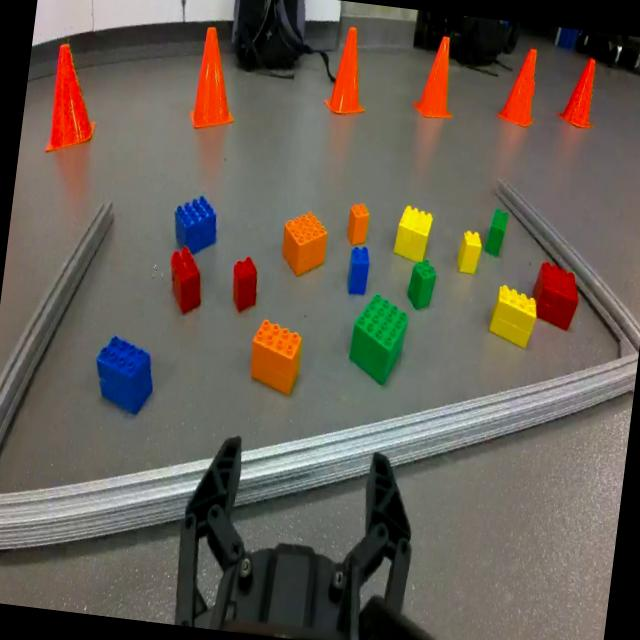block: (487, 287, 539, 352), (394, 205, 434, 263), (457, 228, 482, 276)
blue: (91, 334, 158, 417), (170, 190, 221, 254), (346, 243, 370, 296)
cone: (44, 40, 104, 156), (188, 23, 244, 132), (412, 34, 462, 121), (325, 22, 371, 115), (498, 46, 544, 128), (558, 57, 600, 128)
green: (347, 291, 411, 388), (408, 257, 434, 307), (486, 202, 509, 255)
metal barrier: (0, 176, 640, 556)
orange: (248, 318, 302, 394), (278, 207, 328, 276), (346, 200, 370, 242)
red goal: (532, 258, 584, 332), (164, 245, 204, 312), (230, 256, 260, 311)
